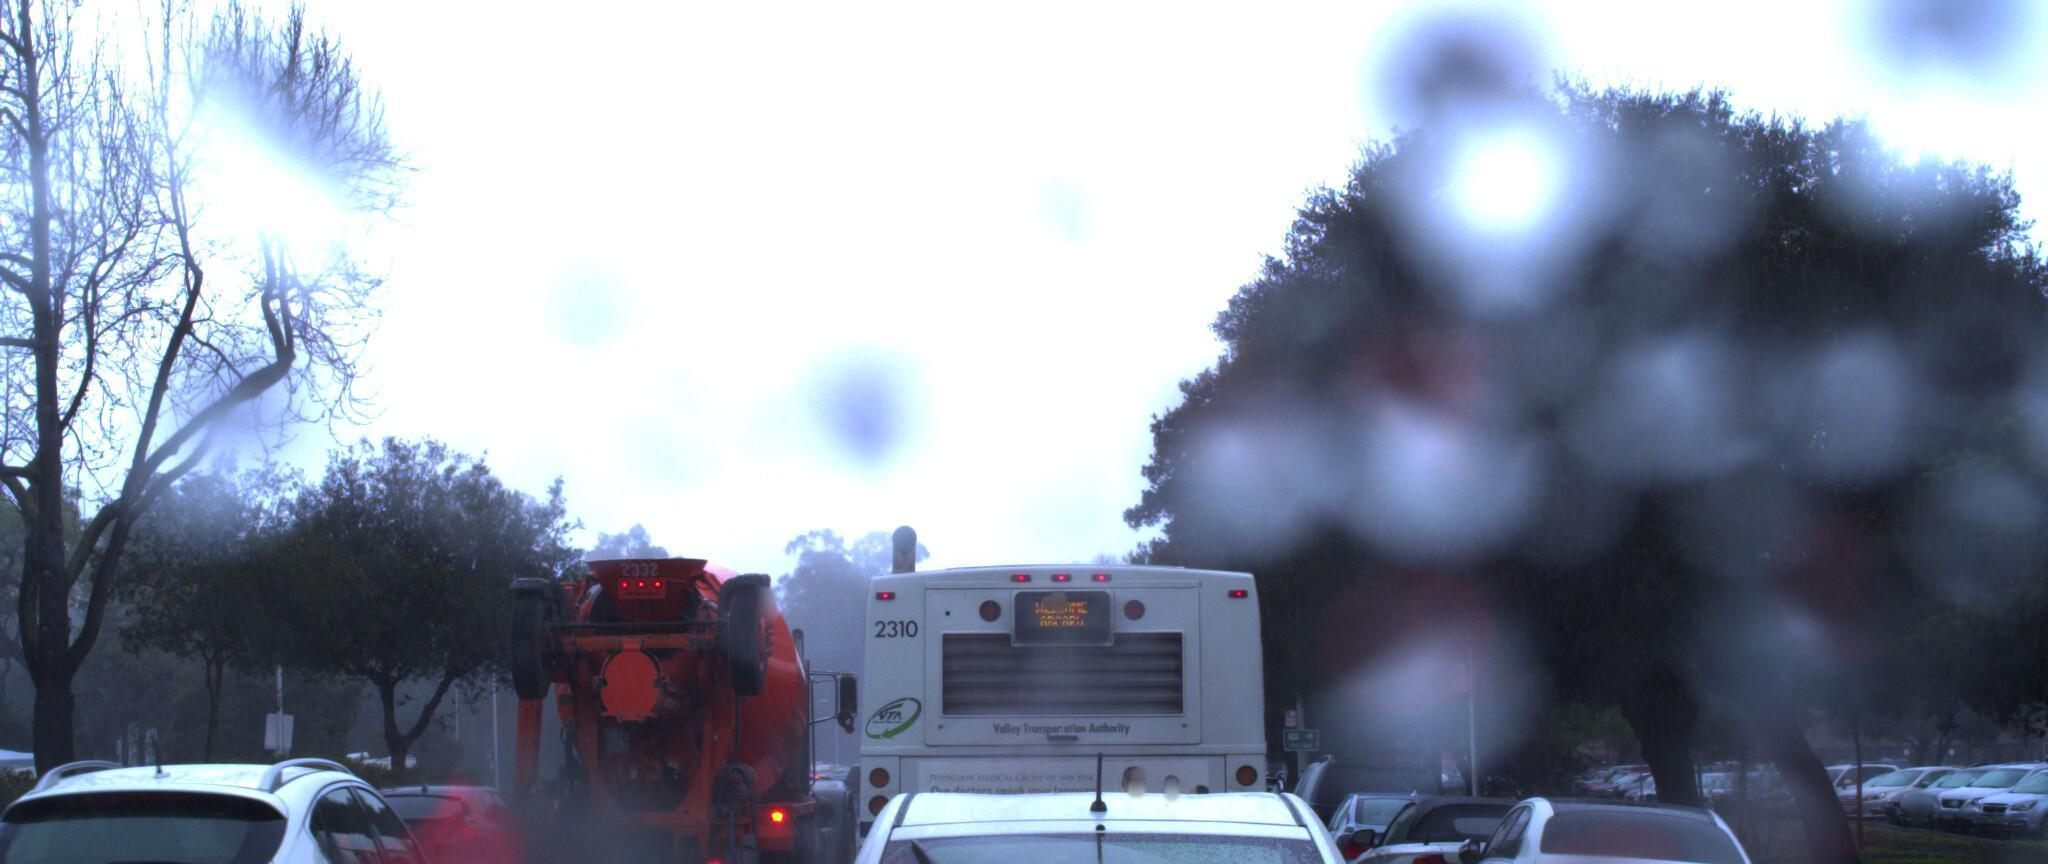bus: (839, 482, 1311, 864)
car: (700, 753, 1496, 864), (0, 723, 516, 864), (1390, 778, 1817, 864), (310, 771, 537, 864), (1320, 794, 1601, 864), (1263, 741, 1422, 864), (1280, 780, 1479, 864), (1991, 790, 2048, 864)
truck: (458, 536, 874, 864)
